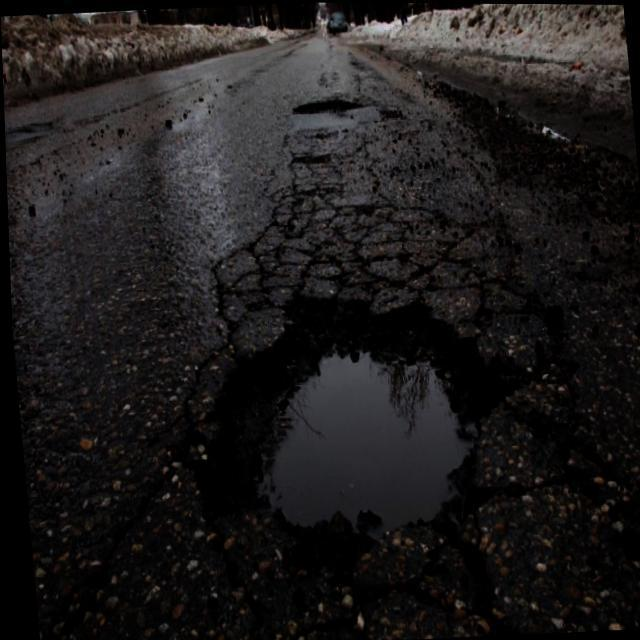Pothole: (198, 295, 515, 570), (295, 92, 366, 120)
